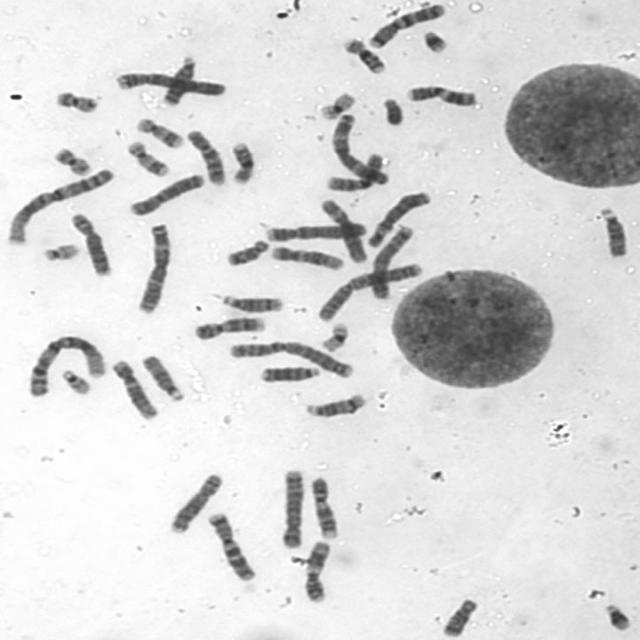A1: (3, 165, 118, 246), (23, 330, 109, 398)
A2: (314, 260, 425, 324), (224, 338, 357, 380)
A3: (326, 109, 392, 188), (133, 219, 176, 315)
B4: (111, 68, 229, 98), (263, 218, 369, 243)
B5: (367, 221, 417, 301), (277, 466, 306, 550)
C10: (182, 126, 228, 188), (322, 150, 386, 193)
C11: (301, 537, 335, 604), (403, 81, 480, 109)
C12: (108, 356, 160, 420), (268, 242, 346, 272)
C6: (362, 189, 433, 250), (316, 195, 370, 265)
C7: (364, 0, 449, 50), (202, 508, 258, 582)
C8: (166, 468, 225, 534), (68, 209, 116, 279)
C9: (191, 313, 269, 341), (308, 474, 340, 542)
D13: (159, 53, 198, 107), (256, 361, 323, 384)
D14: (301, 390, 369, 419), (219, 292, 286, 314)
D15: (138, 351, 186, 402), (594, 203, 630, 260)
E16: (338, 34, 388, 76), (226, 138, 258, 186)
E17: (122, 137, 172, 178), (132, 114, 186, 150)
E18: (437, 593, 482, 639), (222, 236, 271, 267)
F19: (316, 89, 358, 121), (317, 319, 351, 353)
F20: (49, 143, 94, 176), (52, 87, 102, 114)
G21: (598, 598, 636, 633), (418, 26, 451, 54)
G22: (57, 366, 94, 396), (39, 240, 82, 262)
X: (126, 171, 207, 217)
Y: (378, 94, 406, 127)
